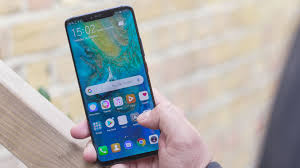huawei: (62, 1, 166, 164)
